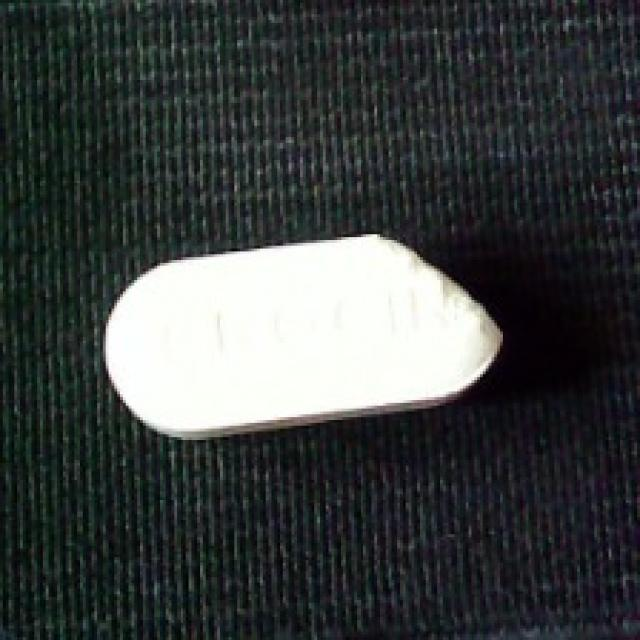defected: (100, 234, 509, 440)
